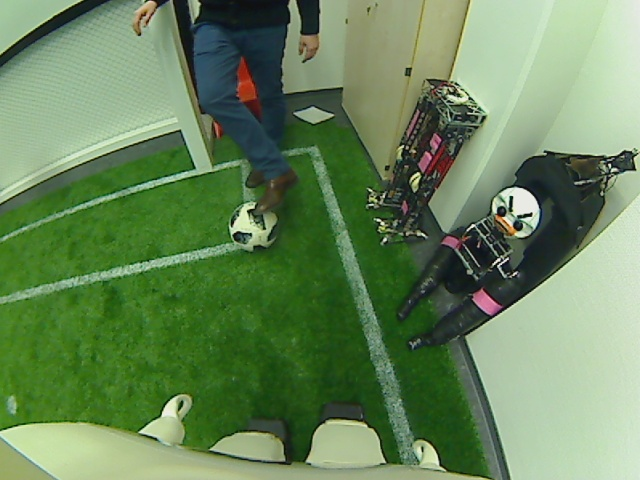ball: (228, 203, 278, 251)
